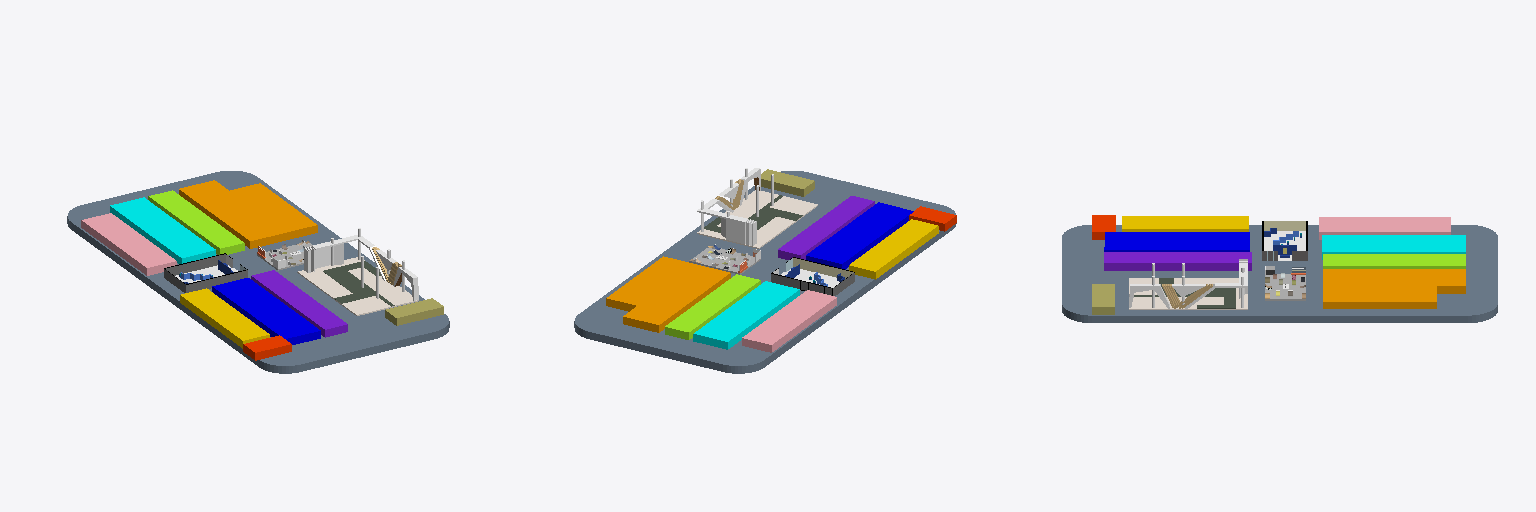
The picture shows the model from 3 angles: view 1: azimuth 30°, elevation 25°; view 2: azimuth 150°, elevation 25°; view 3: azimuth 270°, elevation 25°; orthographic projection.
Parts seen in each view (by area): view 1: Group4, Group7, Group71, Group3, Group2, Group112, Group1, Group5, Group8, Group36, Mesh23, Group6 (+2 smaller); view 2: Group4, Group7, Group3, Group71, Group2, Group1, Group5, Group8, Group112, Group36, Group6, Group107 (+3 smaller); view 3: Group4, Group7, Group71, Group3, Group8, Group2, Group5, Group1, Group112, Group36, Group10, Group6 (+1 smaller).
Part boxes in pixels (x1,y1,x2,y2): Group4: (67, 171, 449, 373); Group7: (179, 180, 317, 248); Group71: (212, 278, 320, 344); Group3: (110, 197, 215, 263); Group2: (81, 213, 176, 275); Group112: (297, 257, 418, 315); Group1: (180, 288, 269, 348); Group5: (148, 190, 244, 254); Group8: (251, 270, 347, 337); Group36: (164, 253, 247, 292); Mesh23: (323, 261, 394, 306); Group6: (385, 298, 443, 325); Group4: (574, 171, 956, 373); Group7: (606, 256, 730, 332); Group3: (693, 281, 799, 349); Group71: (806, 202, 913, 269); Group2: (742, 290, 836, 352); Group1: (849, 219, 938, 279); Group5: (665, 274, 760, 339); Group8: (778, 196, 874, 259); Group112: (697, 190, 817, 248); Group36: (771, 257, 854, 295); Group6: (761, 169, 814, 196); Group107: (697, 199, 748, 243); Group4: (1062, 225, 1497, 322); Group7: (1323, 269, 1465, 308); Group71: (1104, 232, 1249, 251); Group3: (1322, 235, 1465, 259); Group8: (1104, 252, 1251, 270); Group2: (1319, 217, 1450, 239); Group5: (1323, 254, 1465, 268); Group1: (1122, 216, 1248, 231); Group112: (1129, 278, 1247, 309); Group36: (1262, 221, 1307, 260); Group10: (1265, 274, 1305, 300); Group6: (1092, 284, 1114, 314).
Size of the model in its own units: 2012 by 414 by 3976.
49 materials, 3 textured.